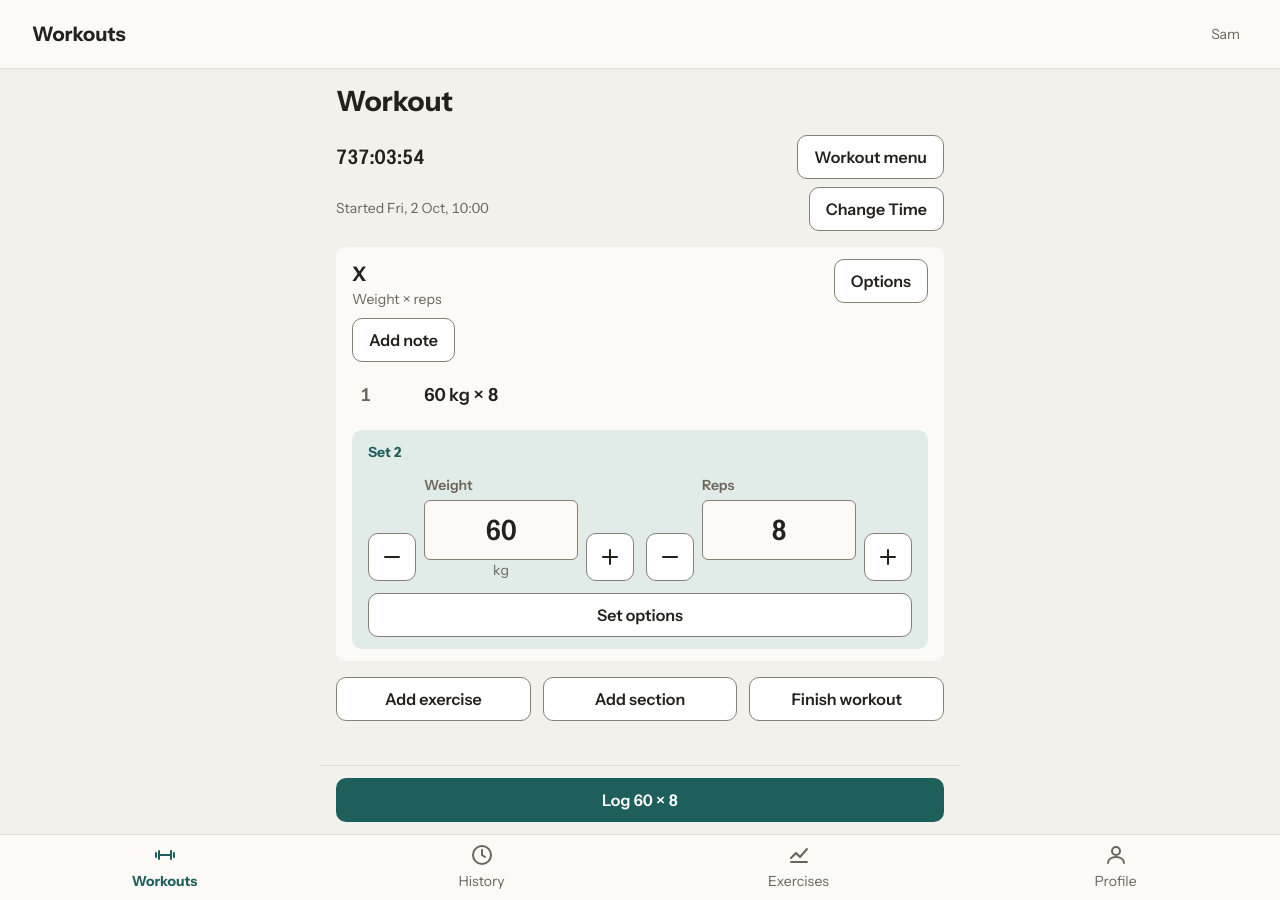
Test: 17.1 AC1 — no RPE control in the entry row or the set edit sheet › the set edit sheet has no RPE field and no More disclosure, even for a set that has one
The width and height of the screenshot is (1280, 900).
Check: the heading "Workout" is shown, box [336,84,453,118]
Click the button "1 60 kg × 8": (461, 395) [352,374,928,418]
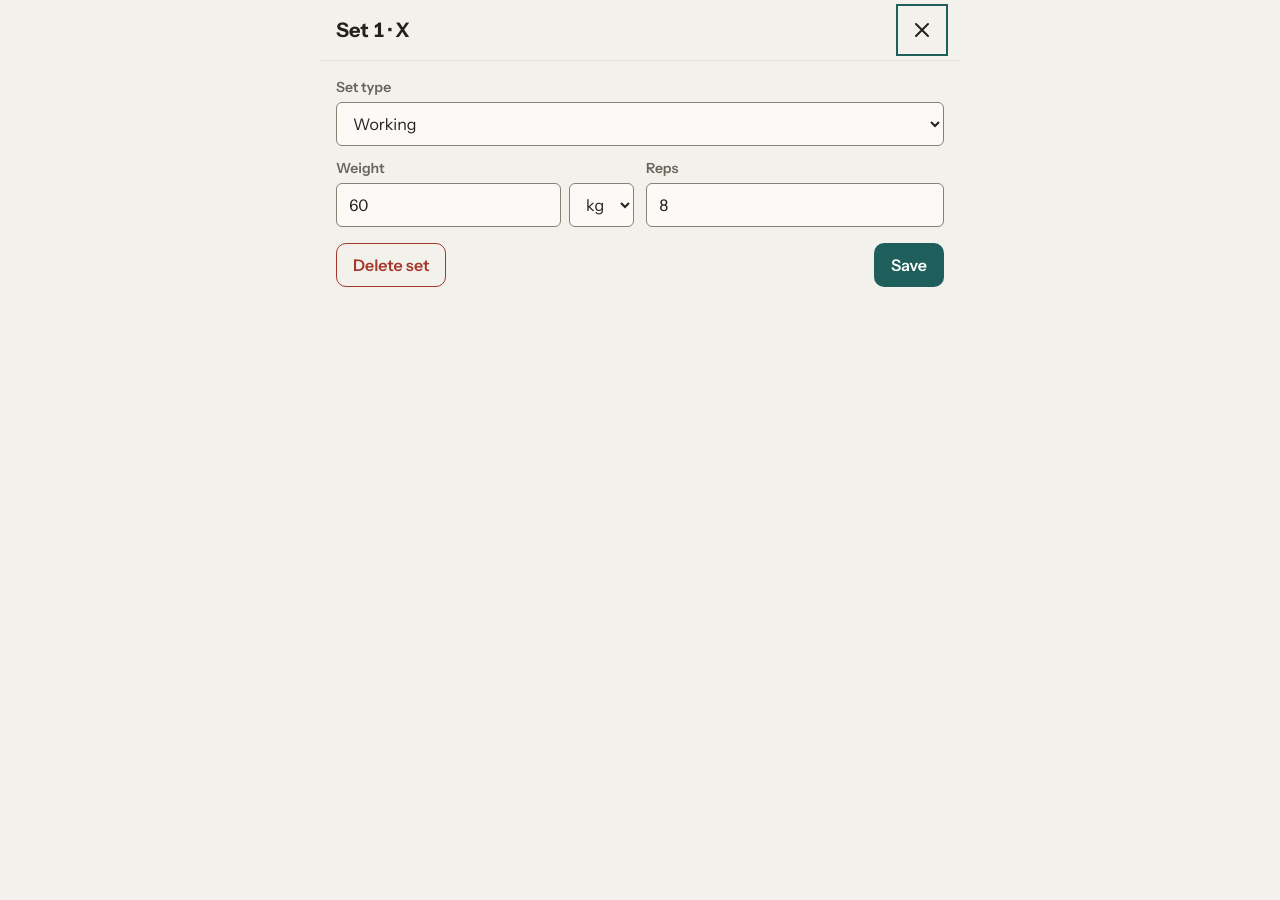
Check: the field labelled "Reps" holds "8", box [646,183,944,227]
